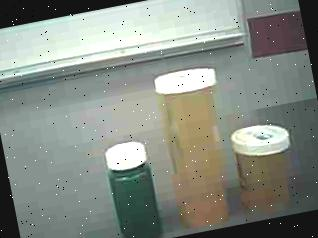Bottle A: (142, 59, 242, 234)
Bottle B: (228, 118, 304, 217)
Bottle C: (97, 136, 166, 238)
